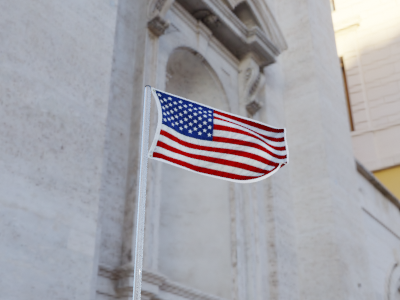America flag: (150, 86, 289, 183)
